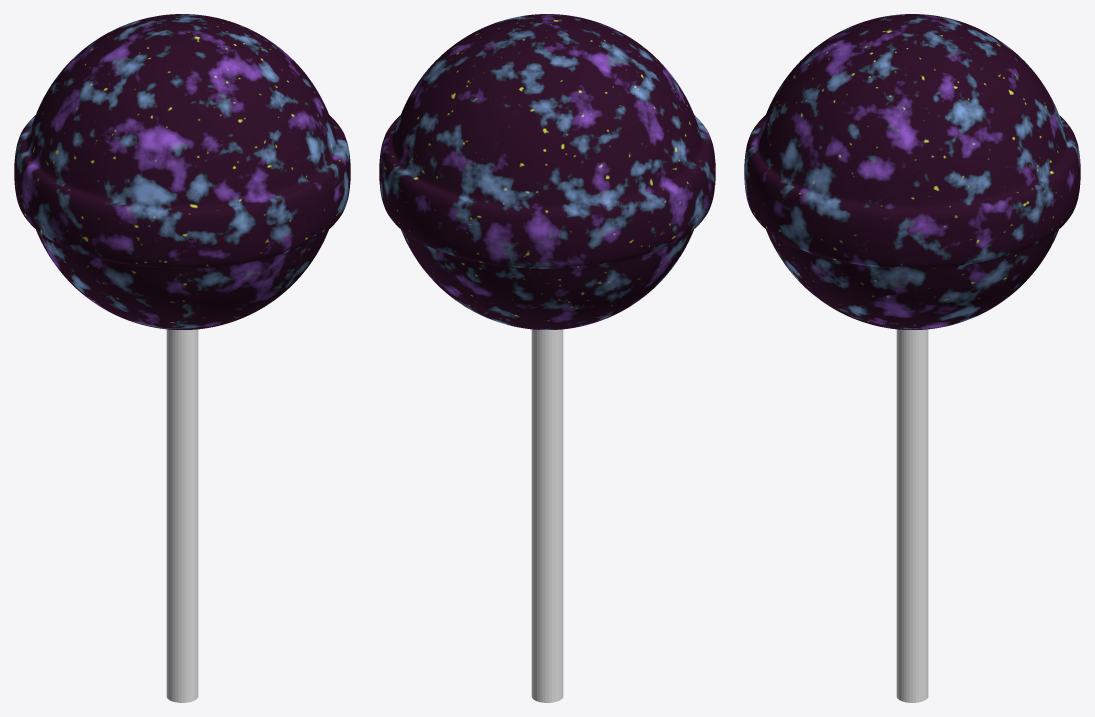
Rendered from lollipop2.gltf.
3 renders of one model, left to right at view 1: azimuth 30°, elevation 25°; view 2: azimuth 150°, elevation 25°; view 3: azimuth 270°, elevation 25°, orthographic.
Parts seen in each view (by area): view 1: Sphere_2, Cylinder_3; view 2: Sphere_2, Cylinder_3; view 3: Sphere_2, Cylinder_3.
Part boxes in pixels (x1=…): Sphere_2: x1=14, y1=14, x2=350, y2=329; Cylinder_3: x1=166, y1=329, x2=198, y2=702; Sphere_2: x1=379, y1=14, x2=715, y2=329; Cylinder_3: x1=531, y1=329, x2=563, y2=702; Sphere_2: x1=744, y1=14, x2=1080, y2=329; Cylinder_3: x1=896, y1=329, x2=928, y2=702.
Size of the model in its own units: 2.11 by 4.63 by 2.11.
Materials: 2 (1 with a texture image).
